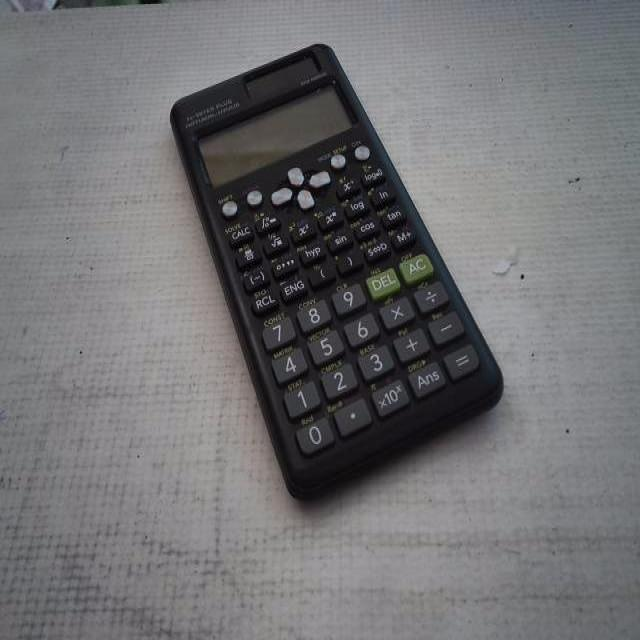Calculator: (167, 39, 506, 506)
